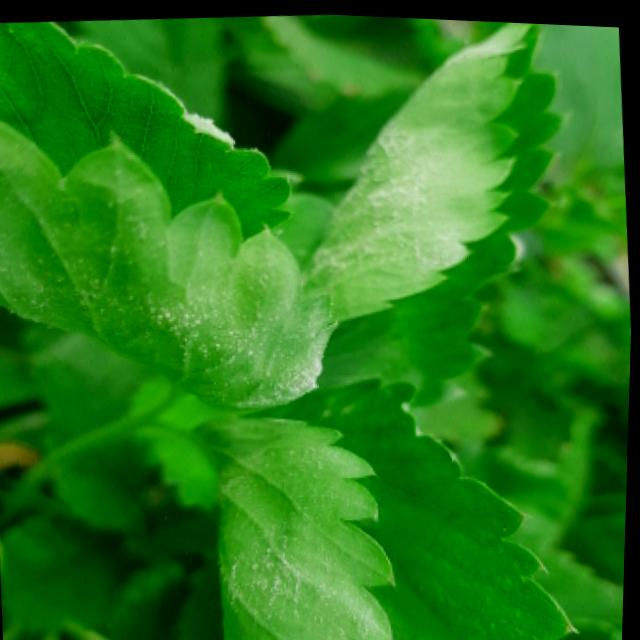Powdery Mildew Leaf: (0, 20, 340, 413), (306, 17, 571, 405), (211, 371, 583, 640)
